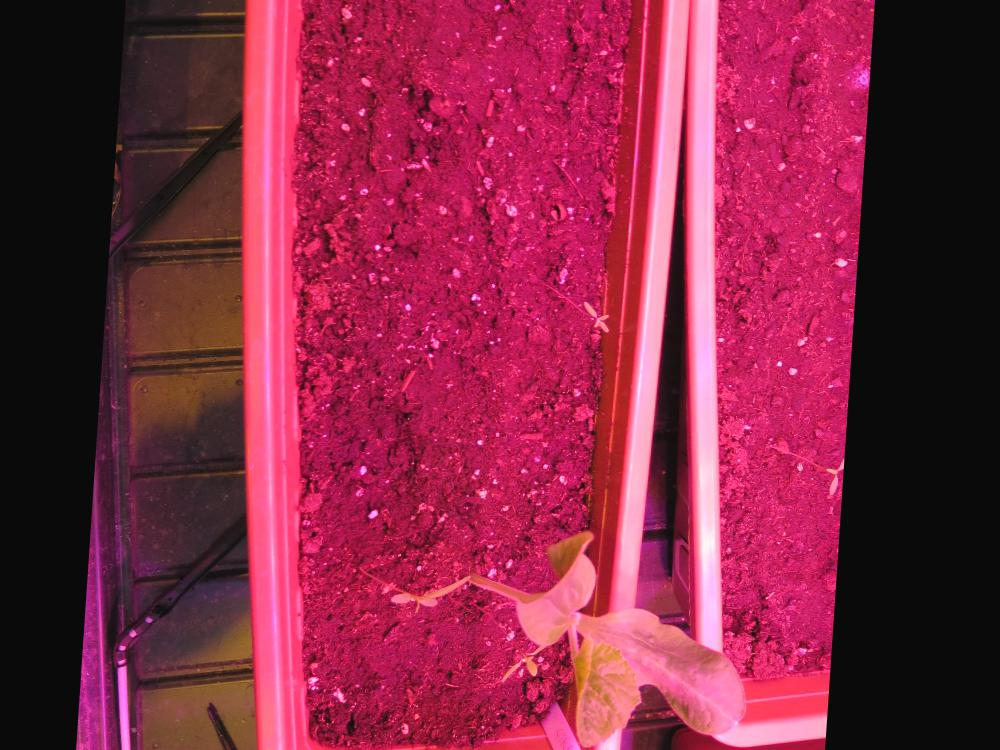weed: (585, 299, 618, 332)
